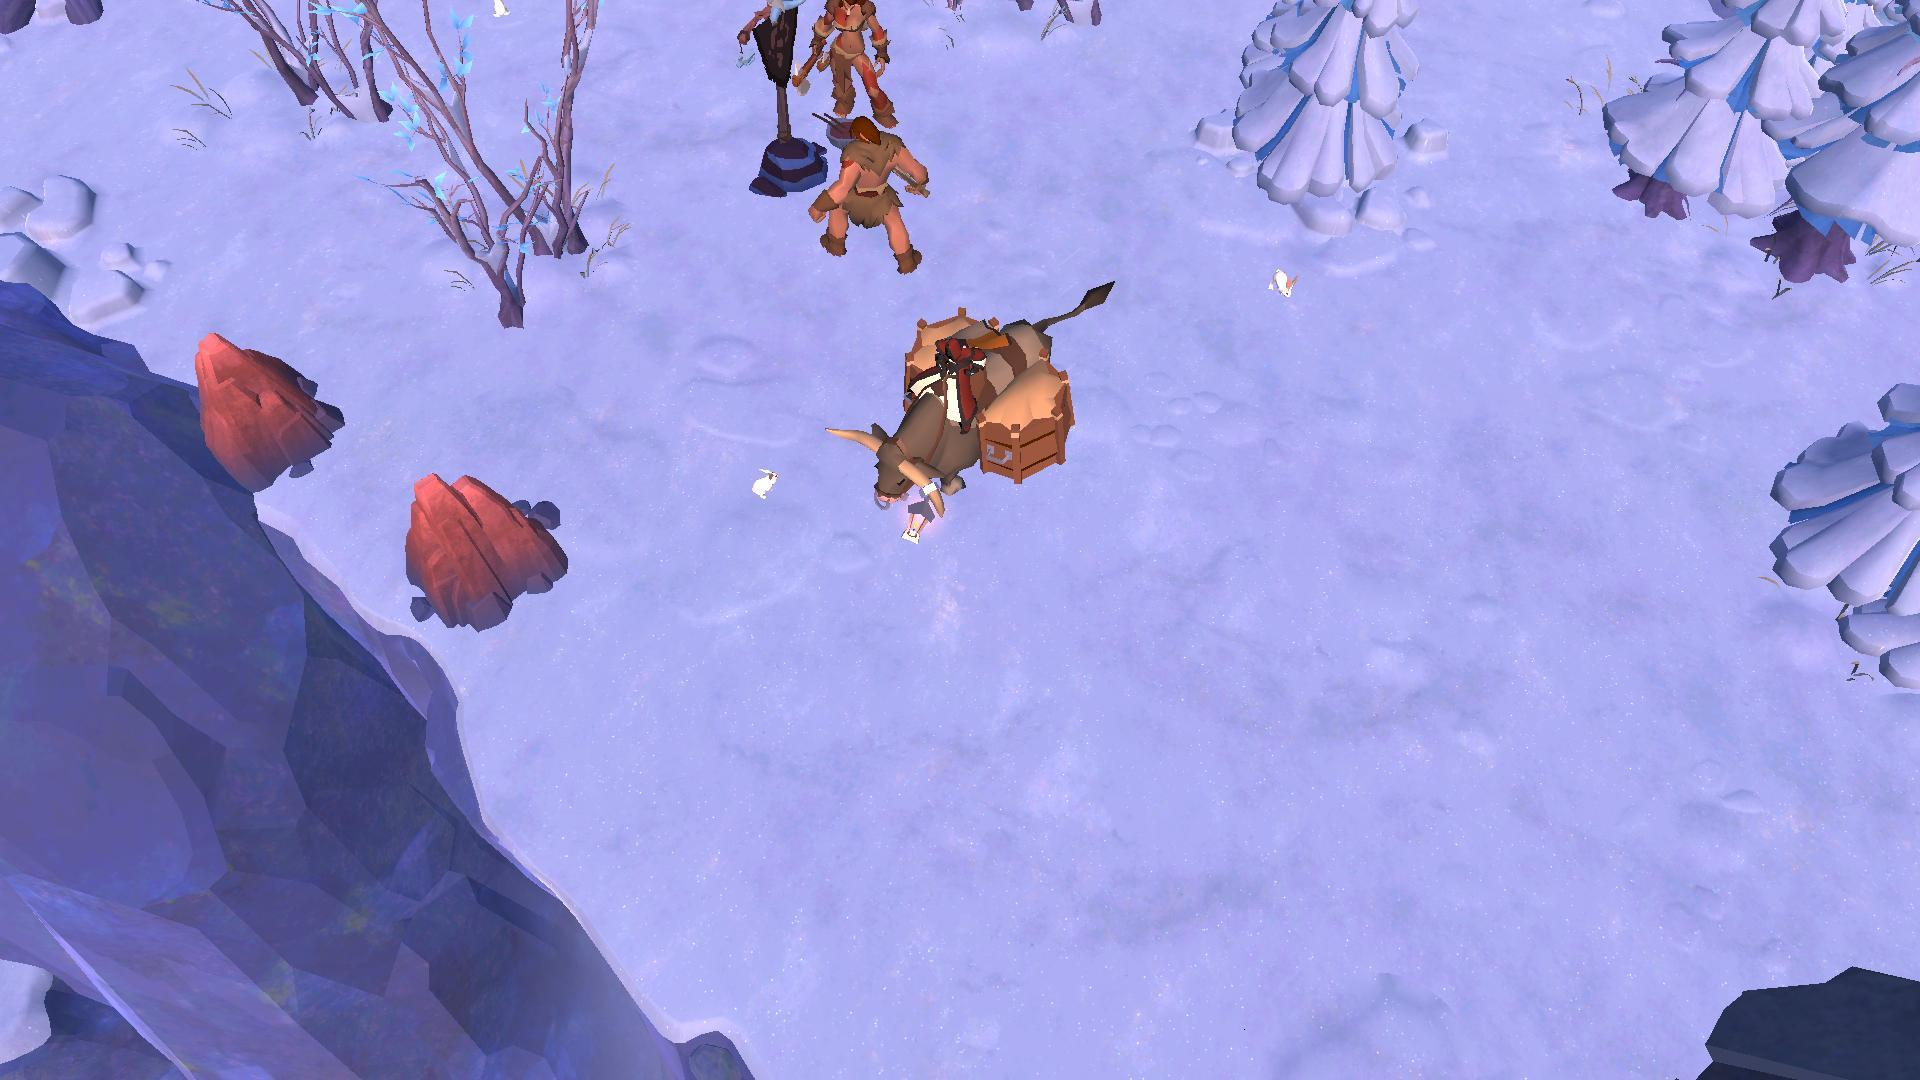enemy_factionKeeper: (804, 123, 932, 273), (794, 0, 906, 120)
rock_t5: (397, 467, 568, 642), (174, 331, 348, 492)
